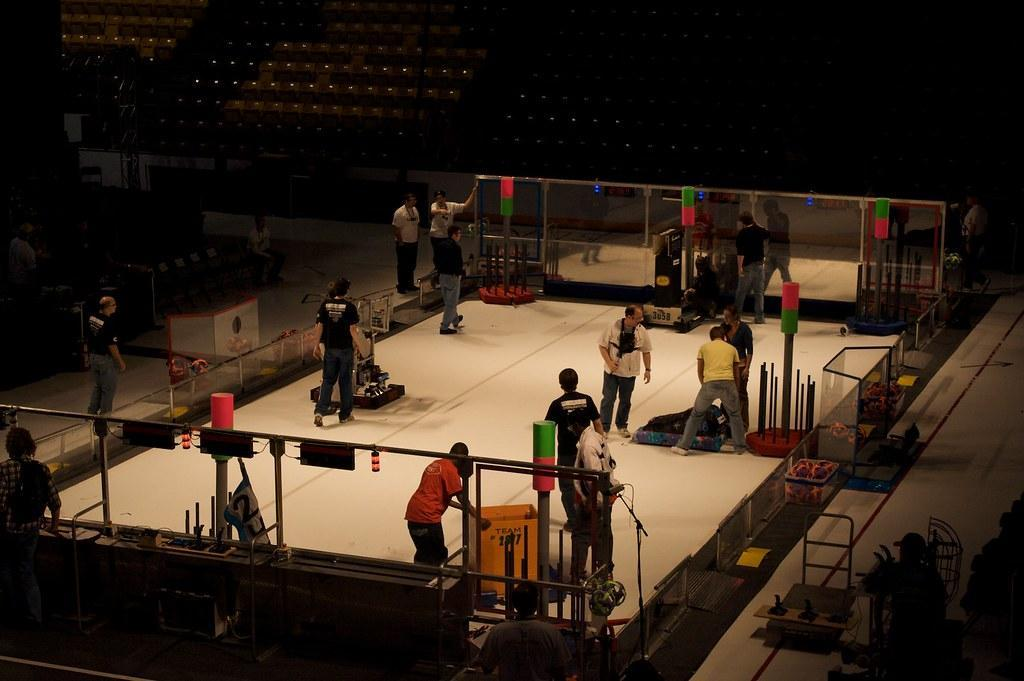robot: (636, 399, 749, 457), (306, 357, 410, 410)
